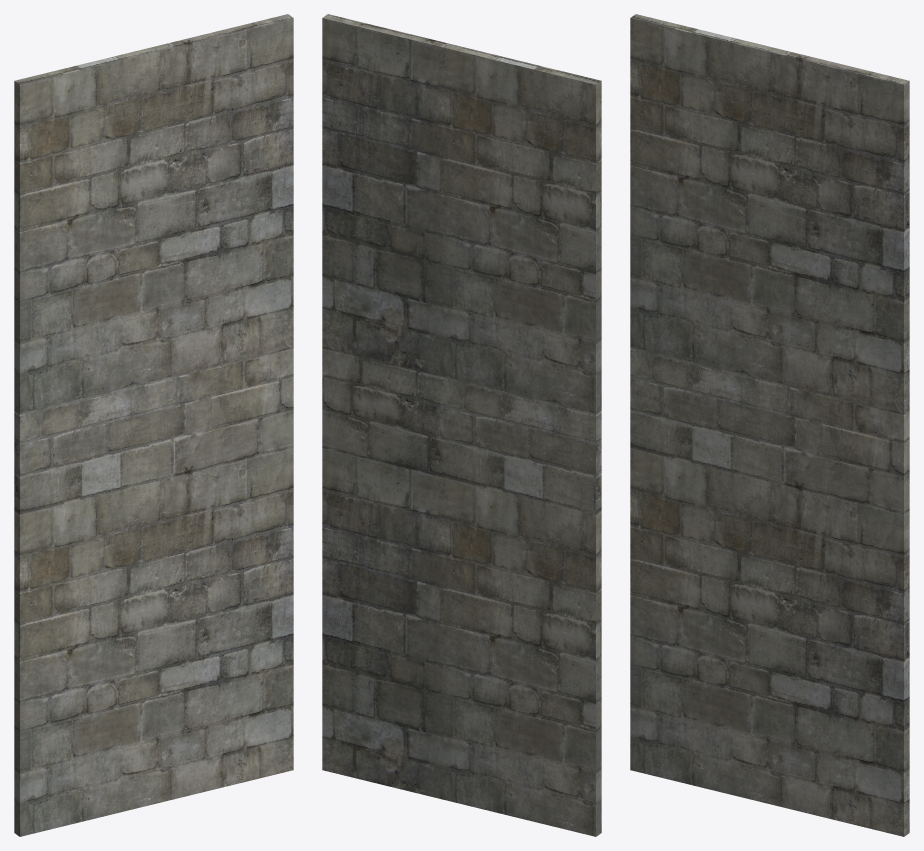
Rendered from bg_lut_lucastle_stairwall01_sm_lkj.FBX.
3 views of the same model, side by side, from view 1: azimuth 30°, elevation 25°; view 2: azimuth 150°, elevation 25°; view 3: azimuth 330°, elevation 25° (orthographic).
Visible parts, largest first — view 1: bg_lut_lucastle_stairwall01_sm_lkj; view 2: bg_lut_lucastle_stairwall01_sm_lkj; view 3: bg_lut_lucastle_stairwall01_sm_lkj.
Part boxes in pixels (bbox=[...]): bg_lut_lucastle_stairwall01_sm_lkj: bbox=[14, 14, 293, 836]; bg_lut_lucastle_stairwall01_sm_lkj: bbox=[322, 14, 601, 836]; bg_lut_lucastle_stairwall01_sm_lkj: bbox=[630, 14, 909, 836].
Bounding box in the file's own units: 293 × 768 × 10.21.
